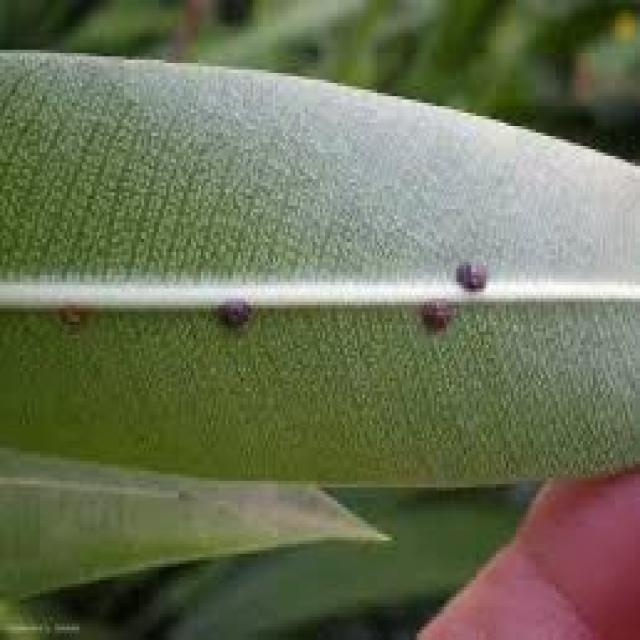Black Scale: (419, 298, 454, 332), (216, 298, 251, 332), (454, 262, 486, 292)
